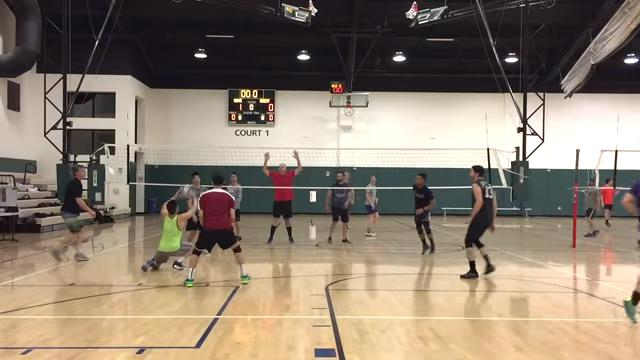ricezione: (138, 177, 199, 278)
